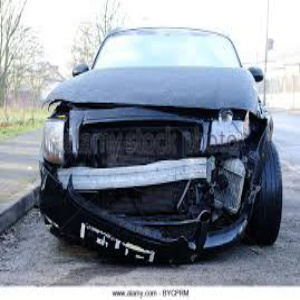bumper: (39, 164, 245, 266)
head_lights: (38, 108, 76, 167)
